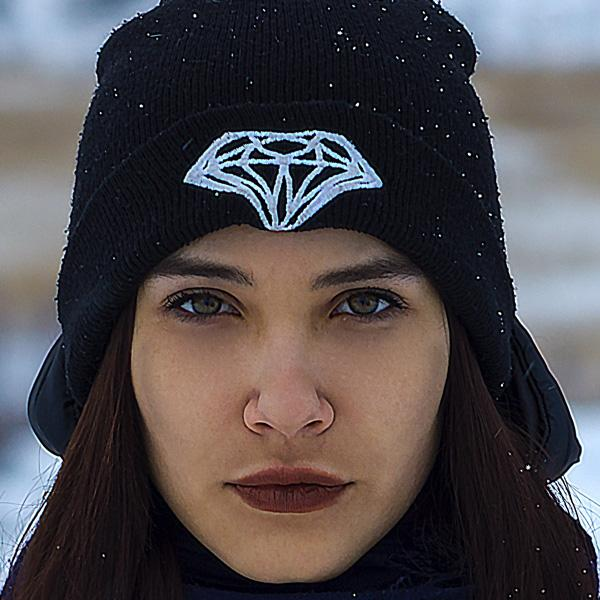Eyes: (149, 274, 252, 339), (314, 278, 417, 338)
